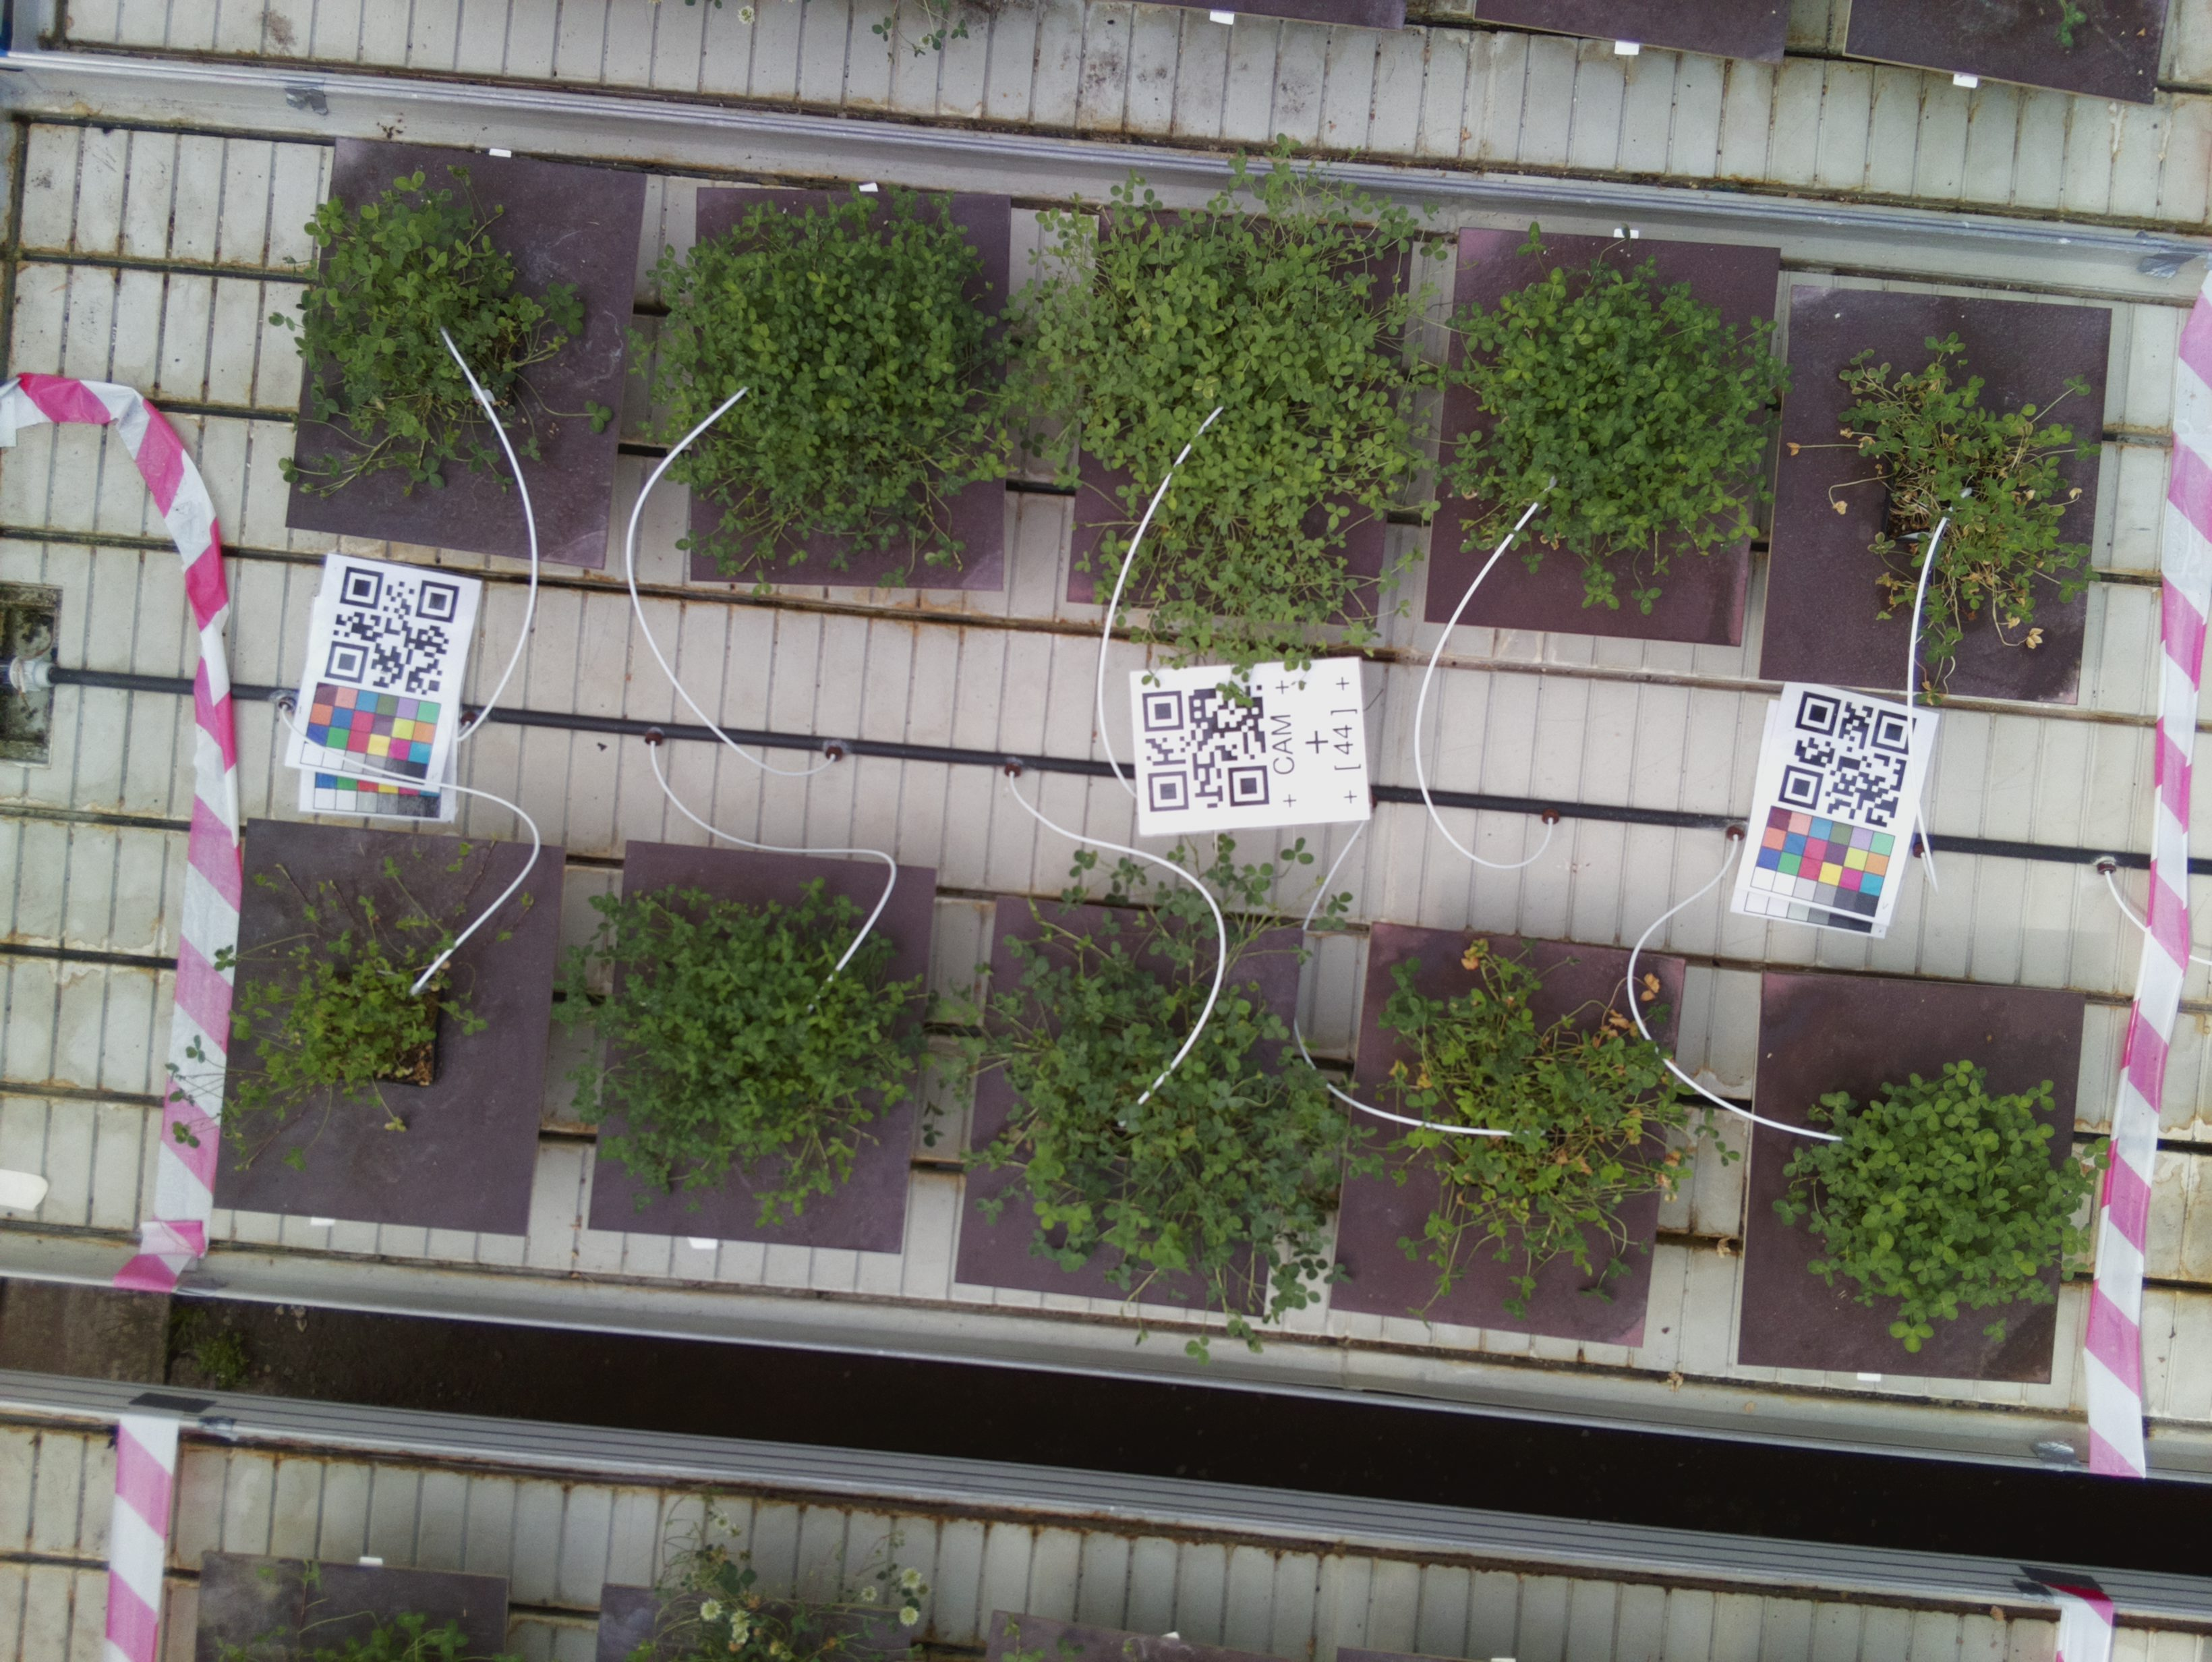POT: (281, 131, 634, 560), (1336, 929, 1685, 1346), (1067, 194, 1404, 623), (969, 899, 1311, 1320), (599, 845, 936, 1259), (216, 824, 557, 1233), (1435, 223, 1763, 635), (1735, 983, 2071, 1377), (1788, 286, 2107, 698), (691, 182, 1007, 588)
QRCODE: (1124, 662, 1379, 841)
QRCOLOR: (276, 555, 484, 780), (1742, 691, 1938, 918)
